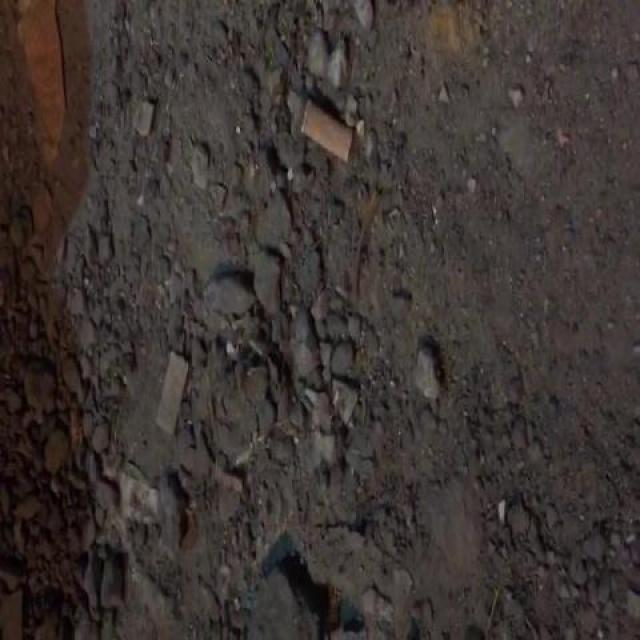non-organic waste: (296, 97, 360, 166)
